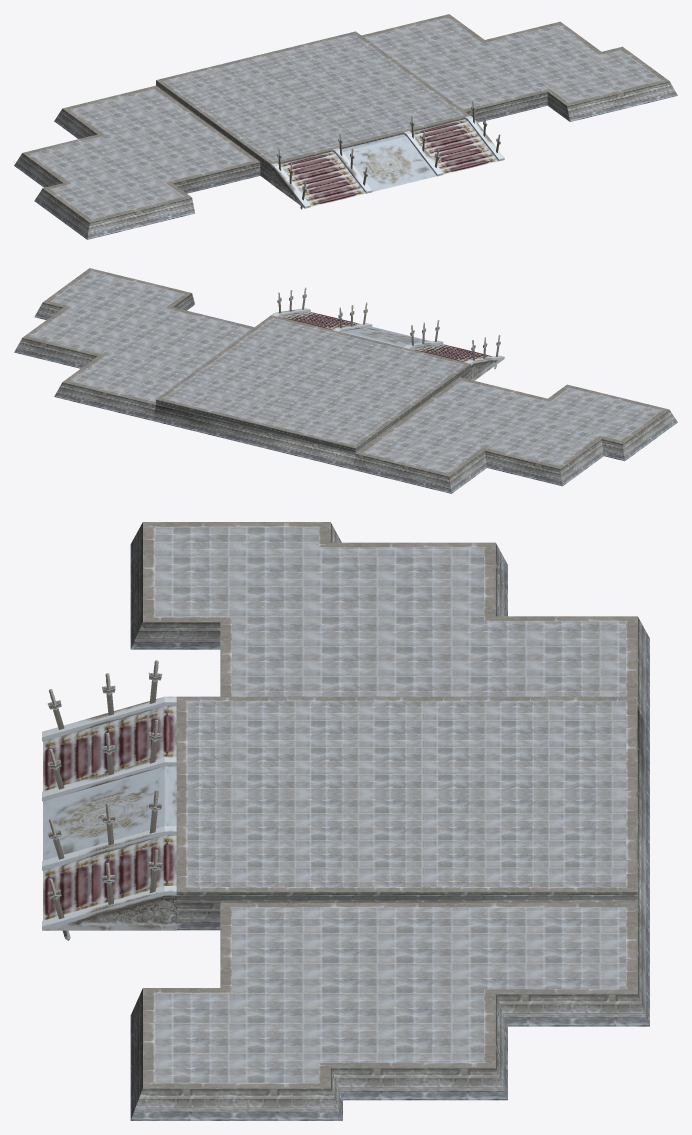
The model's file is jianshengong_03.FBX.
The picture shows the model from 3 angles, top to bottom: view 1: azimuth 30°, elevation 25°; view 2: azimuth 150°, elevation 25°; view 3: azimuth 270°, elevation 25°; orthographic projection. The views are drawn at different scales.
Parts seen in each view (by area): view 1: jianshengong_03; view 2: jianshengong_03; view 3: jianshengong_03.
Boxes of the visible parts, box(x1,y1,x2,y2) form: jianshengong_03: box(14, 14, 677, 239); jianshengong_03: box(14, 268, 677, 493); jianshengong_03: box(42, 522, 649, 1120).
Bounding box in the file's own units: 8321 × 611 × 3710.
